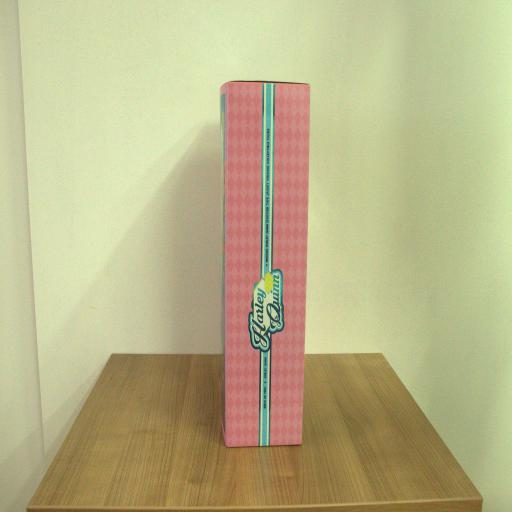Harley: (218, 79, 310, 443)
